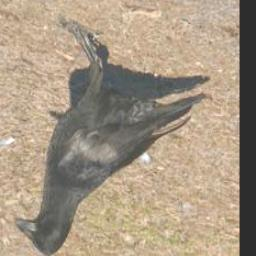Crow: (19, 19, 209, 256)
